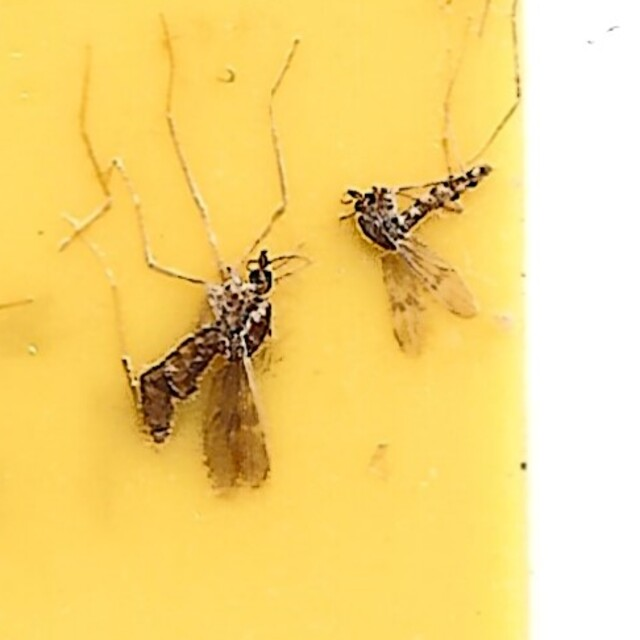Nematocera: (132, 242, 286, 493), (336, 147, 508, 364)
